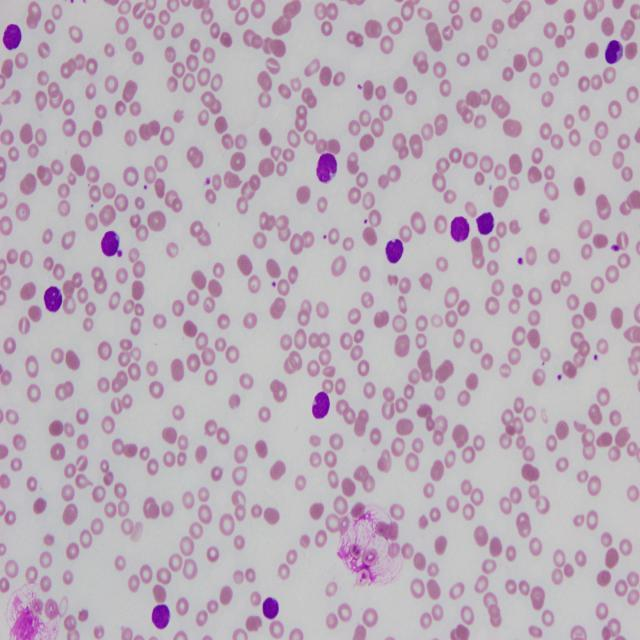cell: (316, 153, 338, 183), (450, 217, 470, 242), (101, 230, 119, 257), (385, 238, 404, 263), (2, 25, 21, 50), (312, 392, 330, 418), (151, 605, 170, 629), (44, 287, 62, 312), (476, 212, 494, 235), (262, 597, 279, 618)
